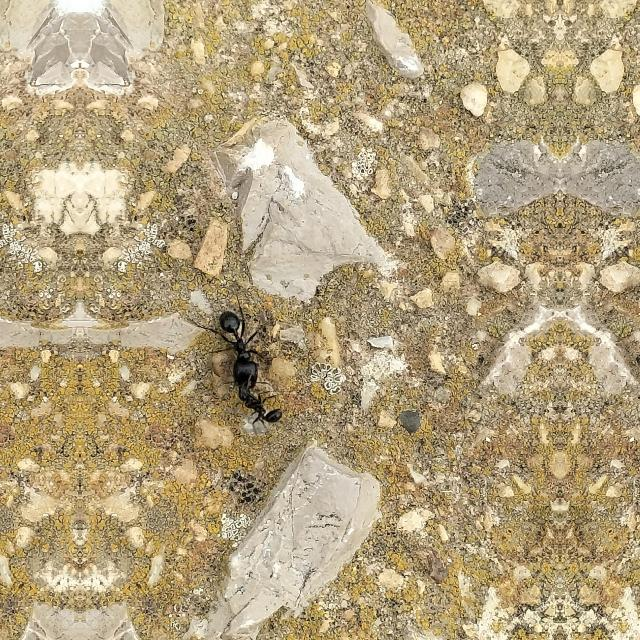Messor: (205, 306, 298, 396), (217, 392, 287, 448)
